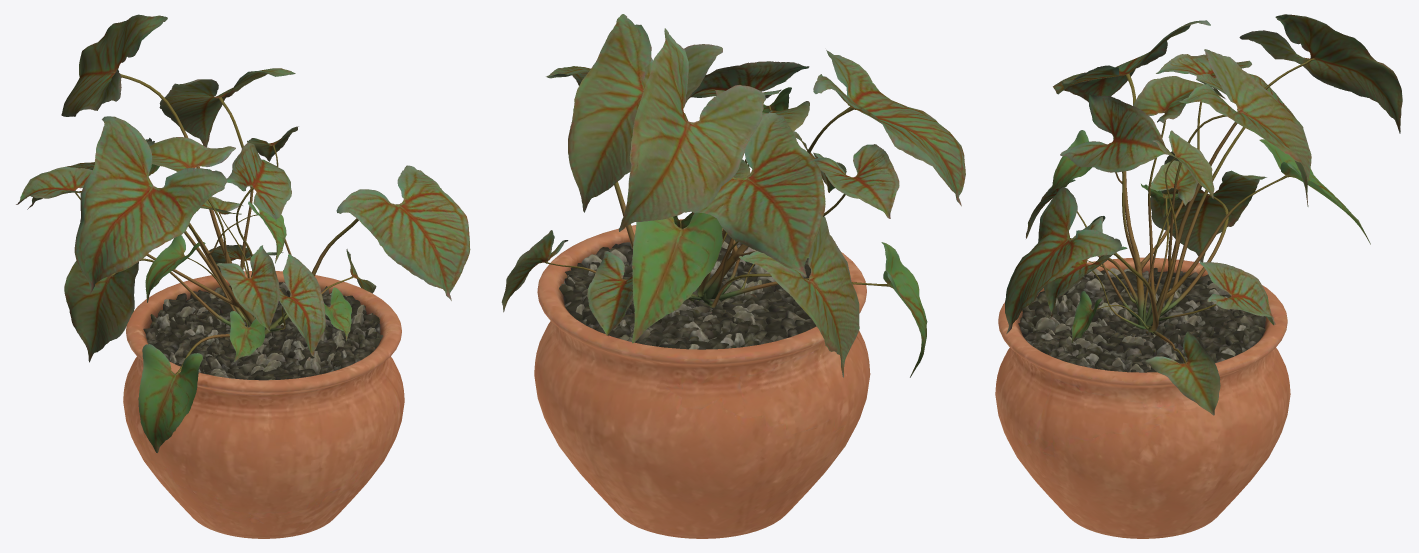
File: plant.glb
3 renders of one model, left to right at view 1: azimuth 30°, elevation 25°; view 2: azimuth 150°, elevation 25°; view 3: azimuth 270°, elevation 25°, orthographic. The views are drawn at different scales.
Visible parts, largest first — view 1: leaves, pot, dirt; view 2: leaves, pot, dirt; view 3: leaves, pot, dirt.
Boxes of the visible parts, x1,y1,x2,y2 form: leaves: (16, 14, 470, 452); pot: (123, 271, 404, 538); dirt: (143, 282, 383, 380); leaves: (501, 14, 965, 377); pot: (534, 219, 870, 538); dirt: (559, 234, 816, 349); leaves: (1005, 14, 1402, 415); pot: (995, 257, 1290, 538); dirt: (1018, 267, 1266, 372).
Bounding box in the file's own units: 0.7012 × 0.8412 × 0.6574.
Materials: 2 (2 with a texture image).
